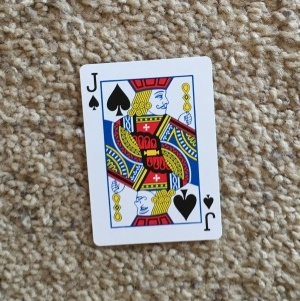card: (75, 55, 225, 246)
